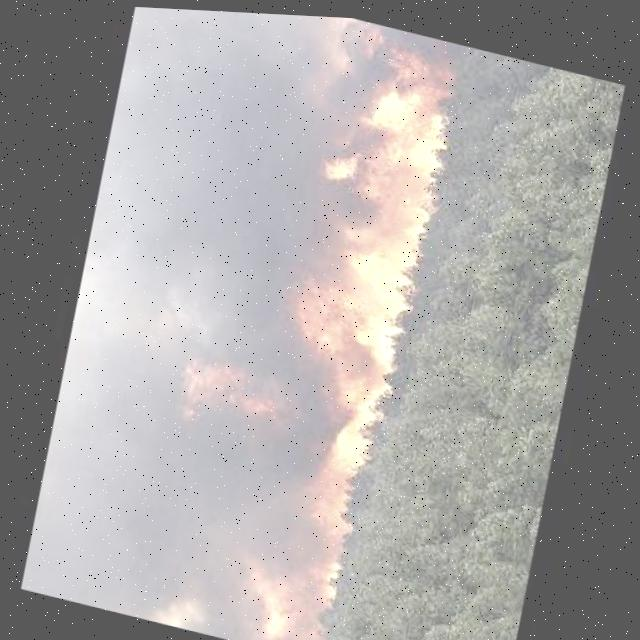Fire: (238, 15, 464, 557), (220, 539, 344, 640), (169, 342, 290, 427)
Smoke: (15, 1, 335, 639)
